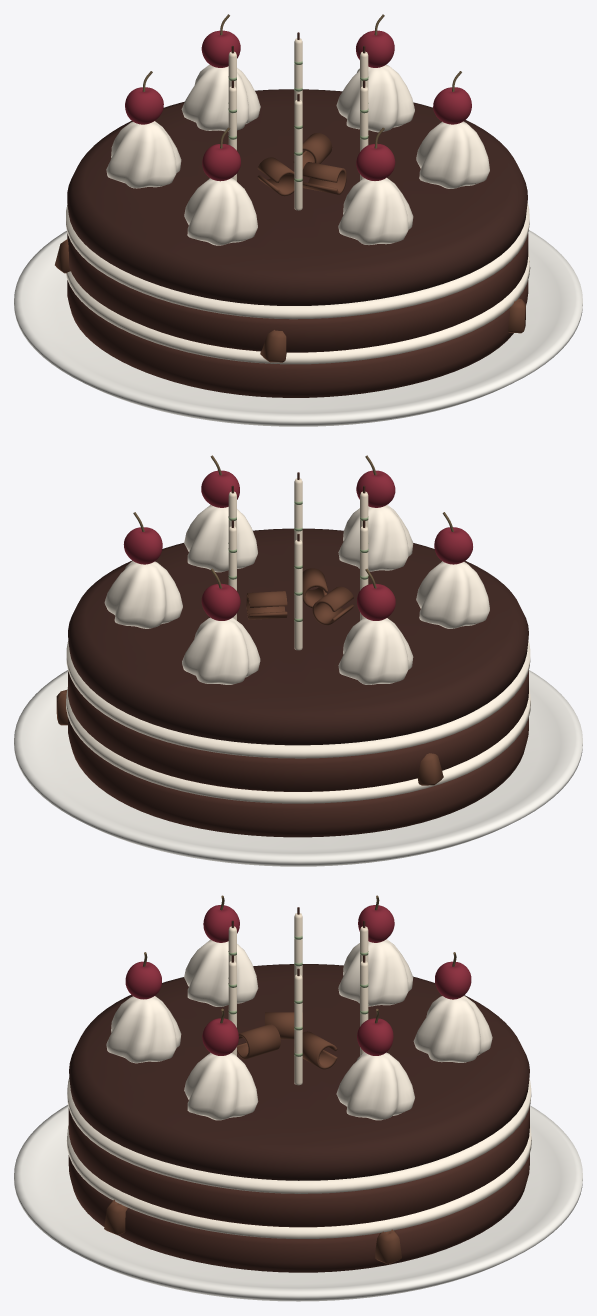
File: cake-06.d56819f0aa3f.glb
3 views of the same model, one above another, from view 1: azimuth 30°, elevation 25°; view 2: azimuth 150°, elevation 25°; view 3: azimuth 270°, elevation 25° (orthographic).
Parts seen in each view (by area): view 1: Clay06_batch_MAT06_cocoa_ganache_quantized, Clay06_batch_MAT06_soft_fresh_cream_quantized, Clay06_batch_MAT06_cocoa_sponge_quantized, Clay06_batch_MAT06_white_porcelain_quantized, Clay06_batch_MAT06_deep_cherry_quantized, Clay06_batch_MAT06_cocoa_curls_quantized, Clay06_batch_MAT06_apricot_wax_quantized; view 2: Clay06_batch_MAT06_cocoa_ganache_quantized, Clay06_batch_MAT06_soft_fresh_cream_quantized, Clay06_batch_MAT06_cocoa_sponge_quantized, Clay06_batch_MAT06_white_porcelain_quantized, Clay06_batch_MAT06_deep_cherry_quantized, Clay06_batch_MAT06_cocoa_curls_quantized, Clay06_batch_MAT06_apricot_wax_quantized; view 3: Clay06_batch_MAT06_cocoa_ganache_quantized, Clay06_batch_MAT06_soft_fresh_cream_quantized, Clay06_batch_MAT06_cocoa_sponge_quantized, Clay06_batch_MAT06_white_porcelain_quantized, Clay06_batch_MAT06_deep_cherry_quantized, Clay06_batch_MAT06_cocoa_curls_quantized, Clay06_batch_MAT06_apricot_wax_quantized.
Part boxes in pixels (box(x1,y1,x2,y2)): Clay06_batch_MAT06_cocoa_ganache_quantized: box(67, 89, 527, 305); Clay06_batch_MAT06_soft_fresh_cream_quantized: box(66, 64, 530, 364); Clay06_batch_MAT06_cocoa_sponge_quantized: box(67, 32, 528, 397); Clay06_batch_MAT06_white_porcelain_quantized: box(14, 230, 582, 426); Clay06_batch_MAT06_deep_cherry_quantized: box(125, 30, 471, 181); Clay06_batch_MAT06_cocoa_curls_quantized: box(55, 133, 525, 362); Clay06_batch_MAT06_apricot_wax_quantized: box(228, 38, 368, 210); Clay06_batch_MAT06_cocoa_ganache_quantized: box(68, 528, 528, 745); Clay06_batch_MAT06_soft_fresh_cream_quantized: box(66, 504, 530, 803); Clay06_batch_MAT06_cocoa_sponge_quantized: box(68, 472, 528, 837); Clay06_batch_MAT06_white_porcelain_quantized: box(14, 670, 582, 866); Clay06_batch_MAT06_deep_cherry_quantized: box(123, 470, 472, 620); Clay06_batch_MAT06_cocoa_curls_quantized: box(56, 568, 443, 785); Clay06_batch_MAT06_apricot_wax_quantized: box(228, 478, 368, 650); Clay06_batch_MAT06_cocoa_ganache_quantized: box(69, 964, 529, 1180); Clay06_batch_MAT06_soft_fresh_cream_quantized: box(66, 939, 531, 1238); Clay06_batch_MAT06_cocoa_sponge_quantized: box(68, 907, 529, 1272); Clay06_batch_MAT06_white_porcelain_quantized: box(14, 1105, 582, 1301); Clay06_batch_MAT06_deep_cherry_quantized: box(125, 905, 471, 1055); Clay06_batch_MAT06_cocoa_curls_quantized: box(104, 1012, 401, 1264); Clay06_batch_MAT06_apricot_wax_quantized: box(228, 913, 368, 1085).
Size of the model in its own units: 0.195 by 0.0965 by 0.195.
